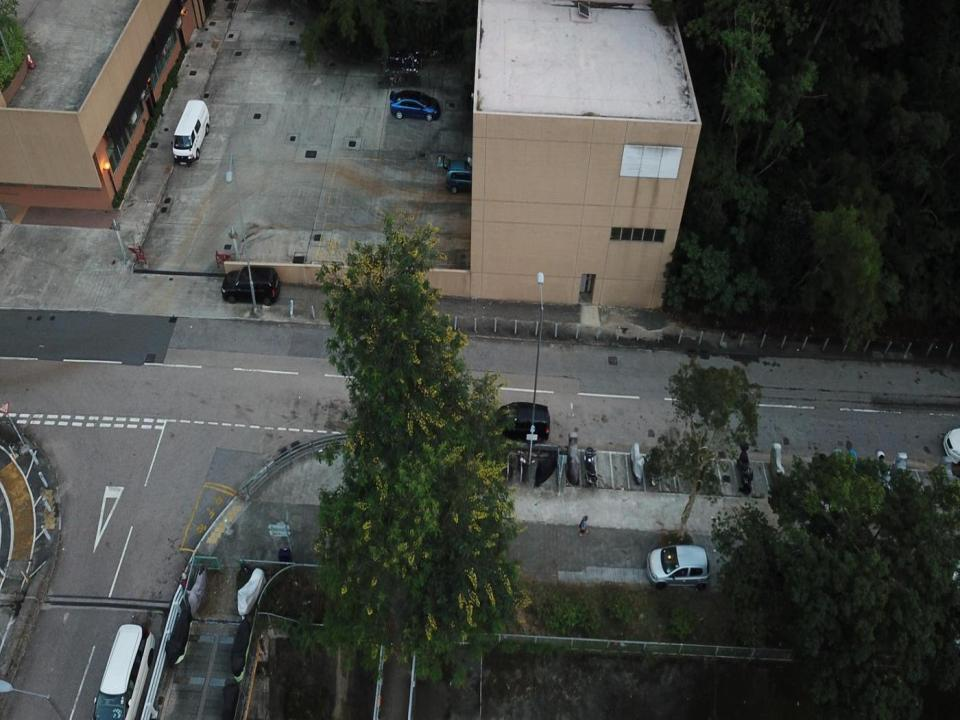car: (647, 545, 709, 592), (490, 402, 550, 442), (221, 266, 280, 305), (438, 154, 493, 194), (390, 90, 441, 122), (942, 428, 960, 466)
van: (93, 624, 155, 719), (170, 100, 210, 167)
